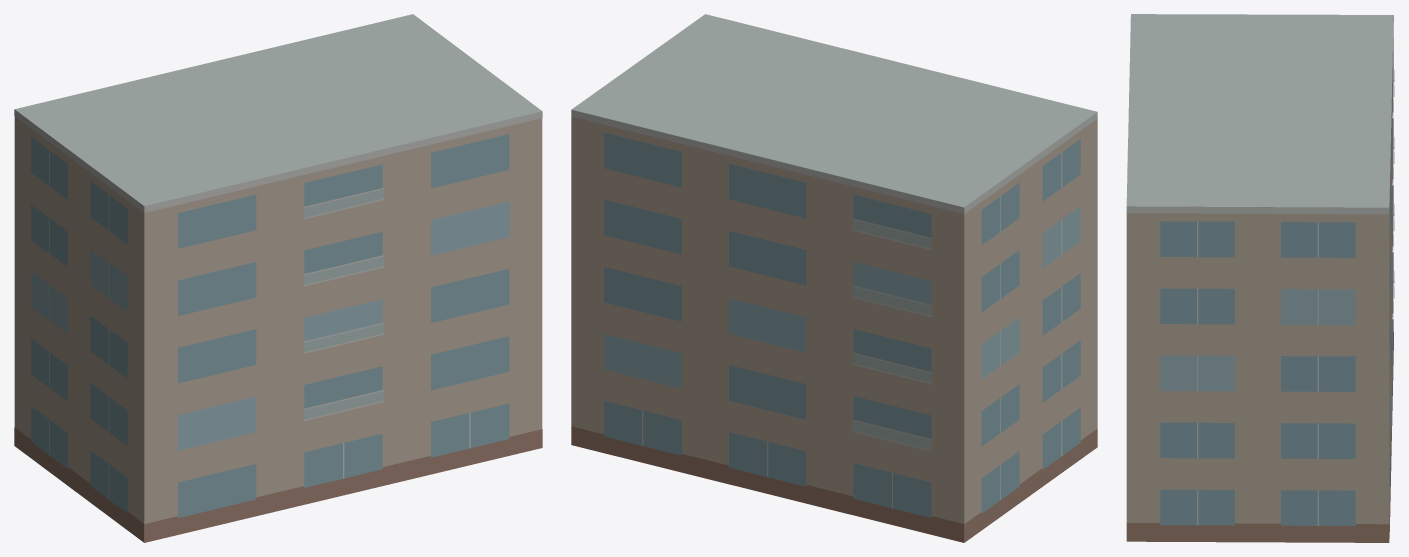
File: survey-upis-32679908.glb
The picture shows the model from 3 angles, left to right: view 1: azimuth 30°, elevation 25°; view 2: azimuth 150°, elevation 25°; view 3: azimuth 270°, elevation 25°; orthographic projection.
Visible parts, largest first — view 1: survey-upis-32679908.tmp; view 2: survey-upis-32679908.tmp; view 3: survey-upis-32679908.tmp.
Boxes of the visible parts, box(x1,y1,x2,y2) form: survey-upis-32679908.tmp: box(14, 14, 542, 542); survey-upis-32679908.tmp: box(571, 14, 1097, 542); survey-upis-32679908.tmp: box(1126, 14, 1394, 542).
Bounding box in the file's own units: 15.08 × 12.16 × 8.81.
